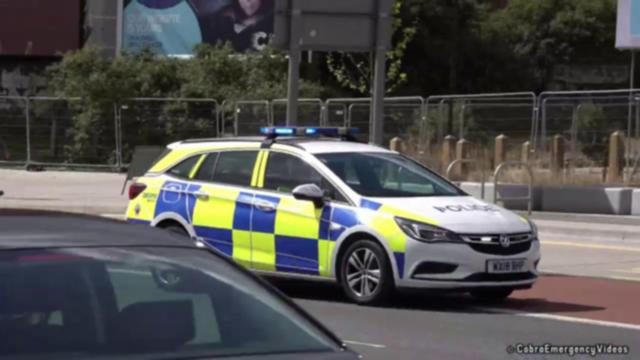police: (125, 126, 547, 299)
